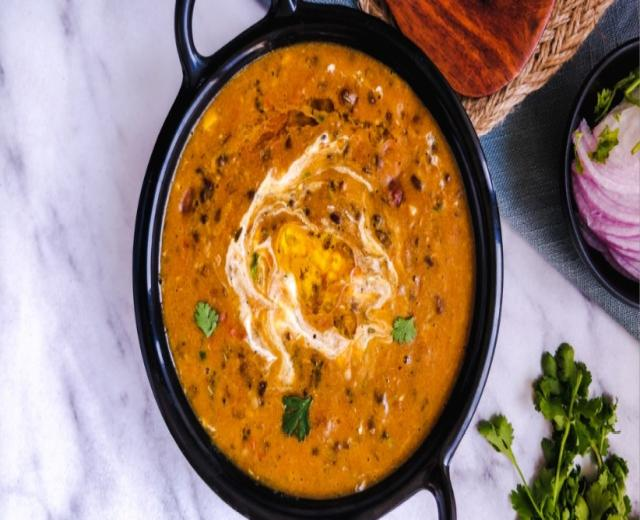dal makhni: (132, 2, 499, 519)
